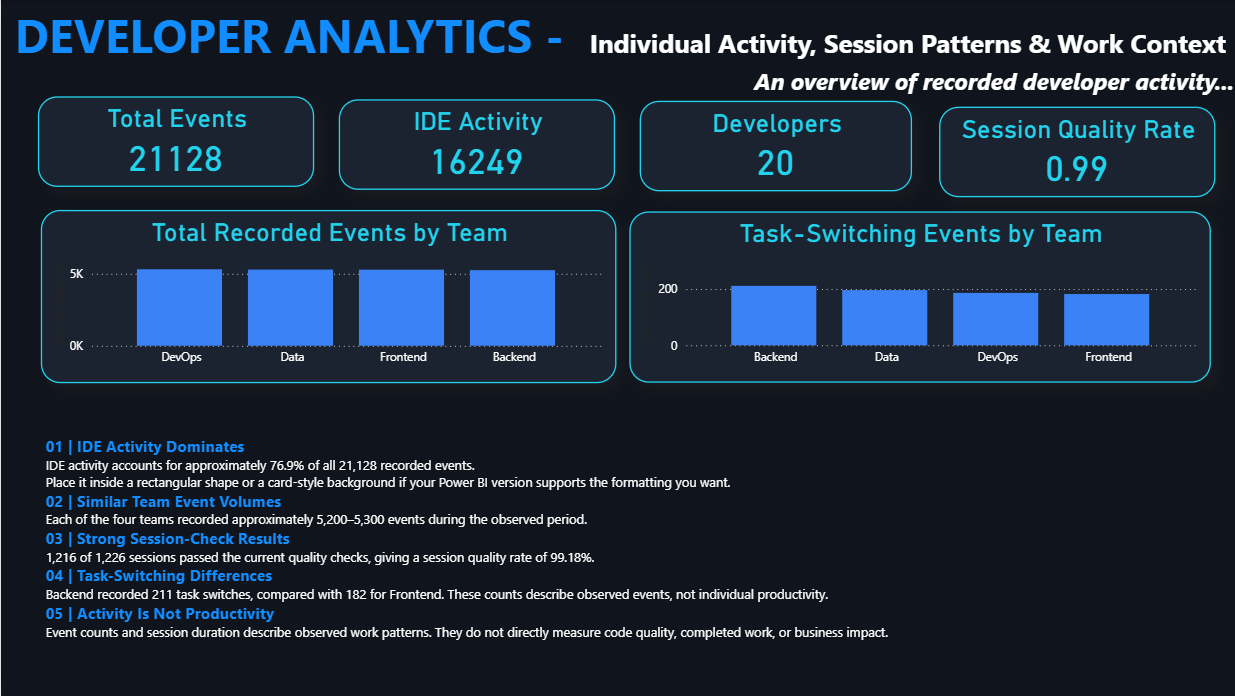

Layout of this report page (visuals, bound fields, positions):
{"tool":"powerbi","page":{"name":"Executive Insights","canvas":[1280,720],"ordinal":4},"visuals":[{"type":"textbox","box":[9.8,0,1269.5,109.5],"z":0},{"type":"card","title":"Total Events","fields":{"Values":["Count(event_overview.event_id)"]},"box":[38.8,101.2,285.6,93.9],"z":1000},{"type":"card","title":"IDE Activity","fields":{"Values":["Sum(developer_analytics.IDE_ACTIVE)"]},"box":[348.8,102.9,285.6,93.9],"z":2000},{"type":"card","title":"Session Quality Rate","fields":{"Values":["event_overview.Session Quality Rate"]},"box":[968.5,110.9,285.6,93.9],"z":3000},{"type":"card","title":"Developers","fields":{"Values":["Count(developer_analytics.developer_id)"]},"box":[659.8,104.8,281.7,93.9],"z":4000},{"type":"clusteredColumnChart","title":"Total Recorded Events by Team","fields":{"Category":["team_activity.team"],"Y":["Sum(team_activity.total_events)"]},"box":[41.1,217.1,594.6,179.1],"z":5000},{"type":"clusteredColumnChart","title":"Task-Switching Events by Team","fields":{"Category":["team_activity.team"],"Y":["Sum(team_activity.task_switch_events)"]},"box":[649.4,219.1,600.5,177.1],"z":6000},{"type":"textbox","box":[41.1,446.4,1191.5,242.3],"z":7000}]}

Visuals, with their boxes in screenshot pixels (x1, y1, x2, y2), scaled from the page's 1280x720 canvas onto the 1235x696 screenshot:
textbox: [x1=9, y1=0, x2=1234, y2=106]
"Total Events" card: [x1=37, y1=98, x2=313, y2=189]
"IDE Activity" card: [x1=337, y1=99, x2=612, y2=190]
"Session Quality Rate" card: [x1=934, y1=107, x2=1210, y2=198]
"Developers" card: [x1=637, y1=101, x2=908, y2=192]
"Total Recorded Events by Team" clusteredColumnChart: [x1=40, y1=210, x2=613, y2=383]
"Task-Switching Events by Team" clusteredColumnChart: [x1=627, y1=212, x2=1206, y2=383]
textbox: [x1=40, y1=432, x2=1189, y2=666]
